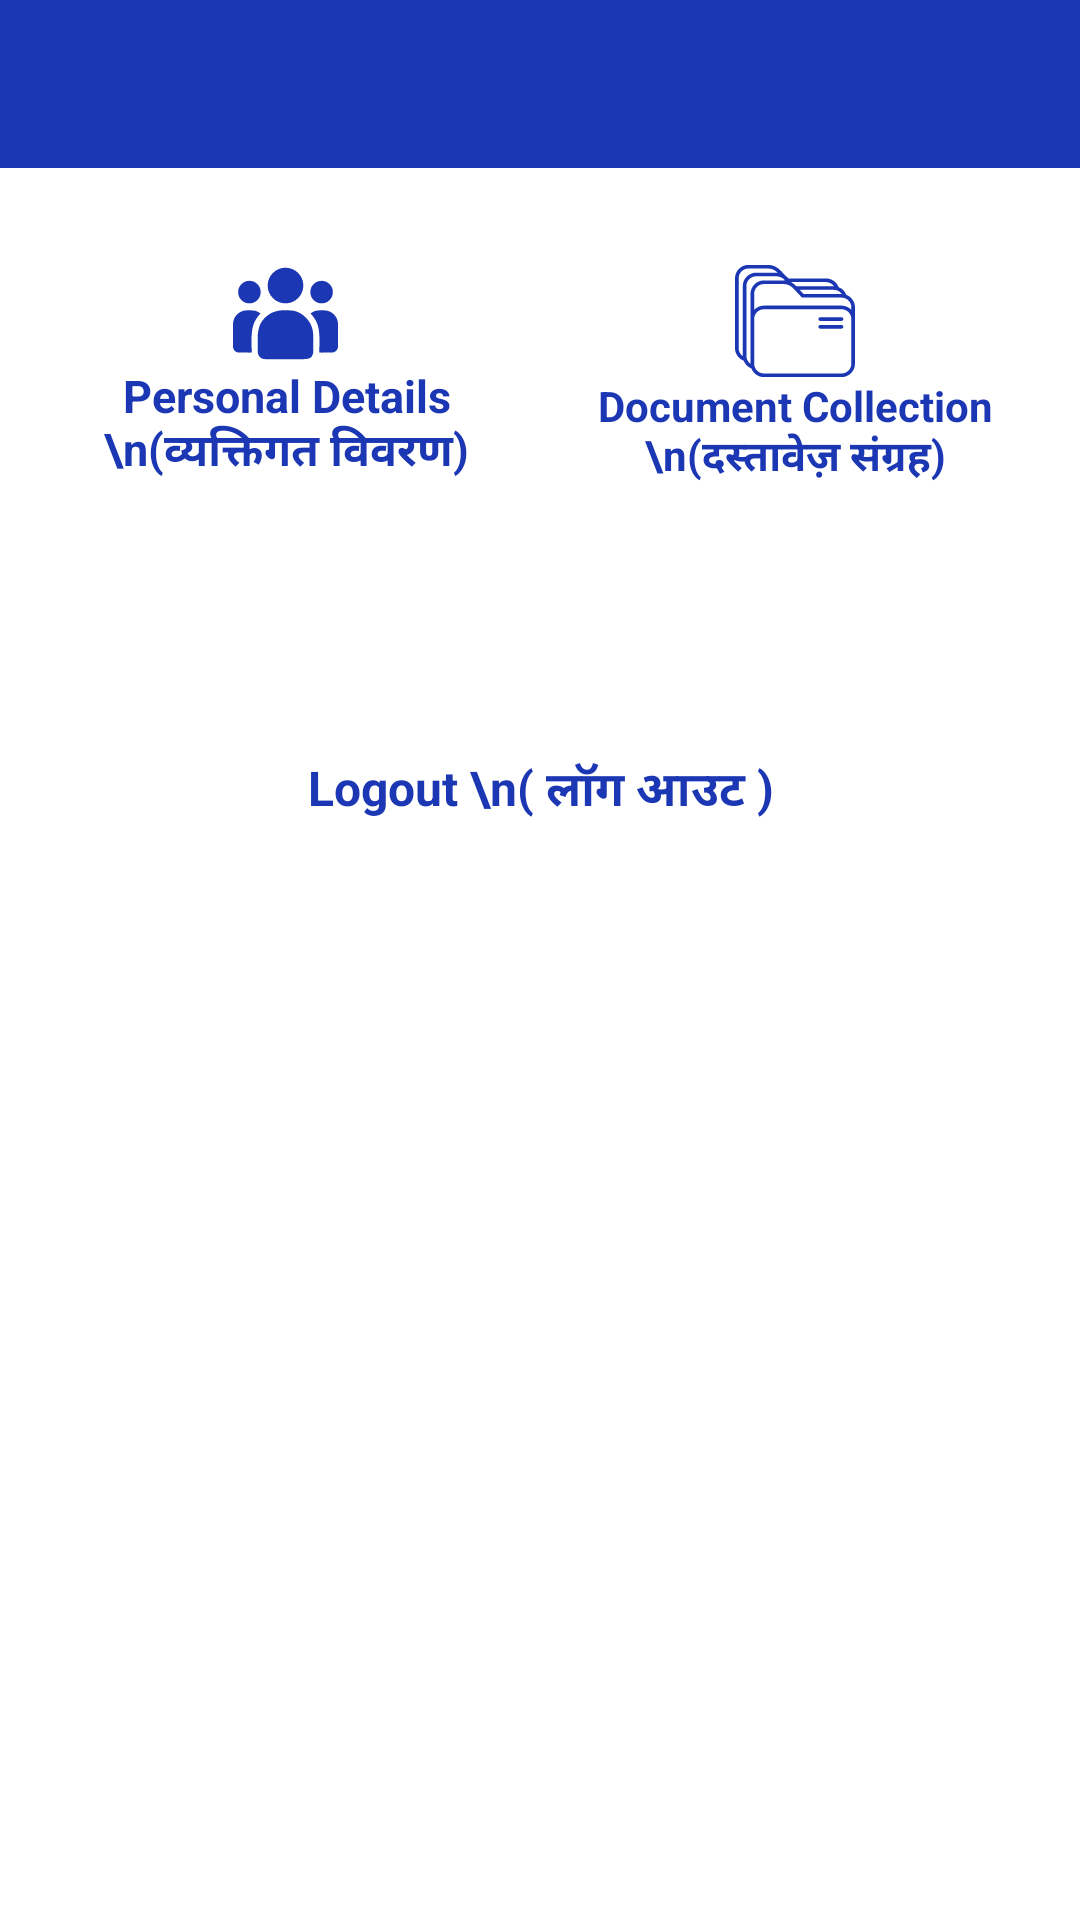

Where to tap for icons on this 1080px×1920px app screen, as (x,y):
customer: (285,313)
folder doc: (795,321)
